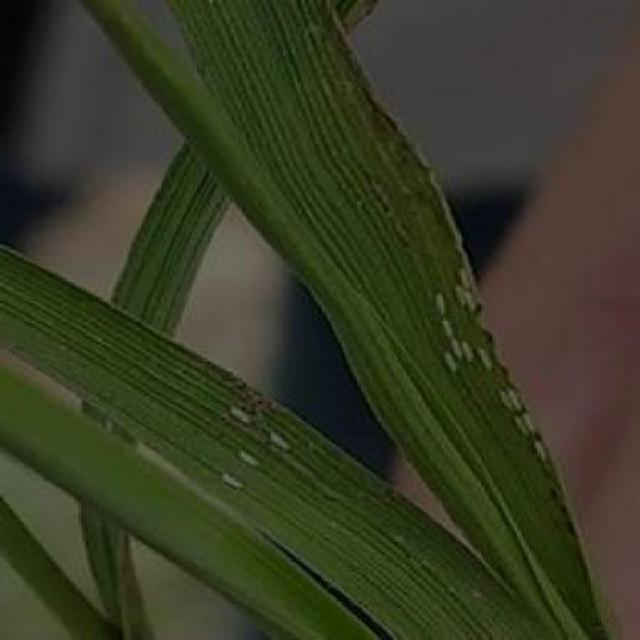whorl-maggot: (263, 428, 302, 462), (220, 472, 254, 503), (514, 414, 543, 446), (234, 448, 268, 474), (529, 438, 557, 469), (222, 402, 250, 429), (494, 391, 523, 415), (454, 268, 480, 292), (480, 343, 497, 377), (440, 354, 463, 378), (430, 288, 448, 318), (437, 318, 457, 342)
